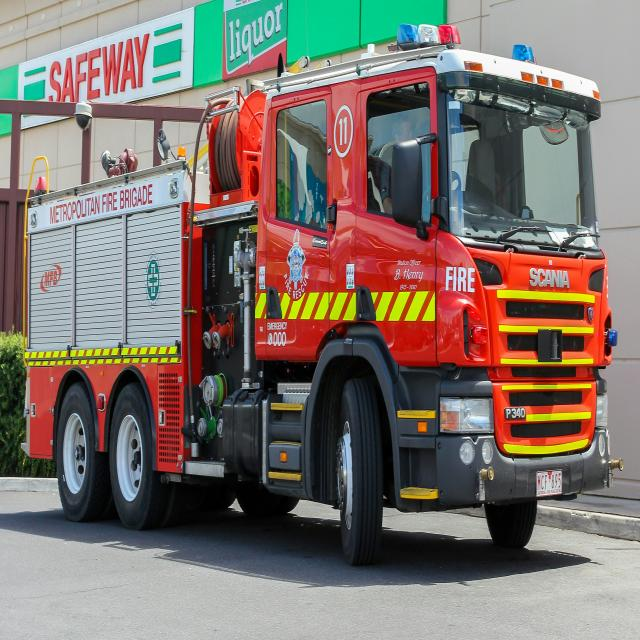emergency: (25, 27, 621, 565)
